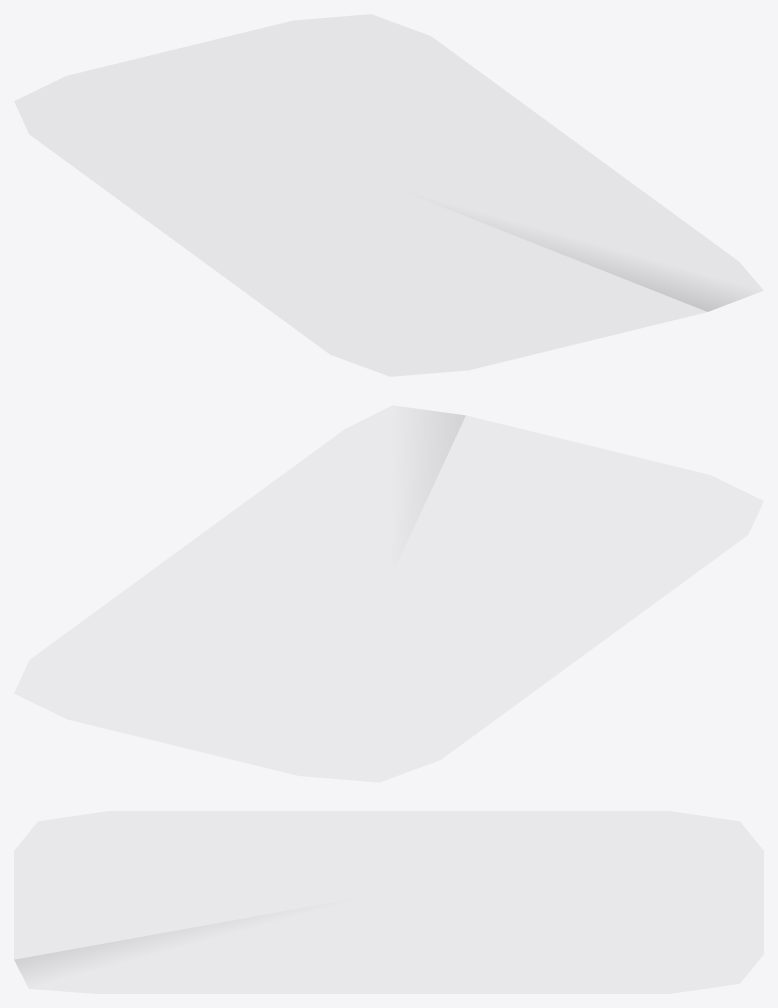
3 views of the same model, one above another, from view 1: azimuth 30°, elevation 25°; view 2: azimuth 150°, elevation 25°; view 3: azimuth 270°, elevation 25° (orthographic). The views are drawn at different scales.
Parts seen in each view (by area): view 1: Joint_0_Object_0; view 2: Joint_0_Object_0; view 3: Joint_0_Object_0.
Boxes of the visible parts, box(x1,y1,x2,y2) form: Joint_0_Object_0: box(488, 224, 746, 311); Joint_0_Object_0: box(411, 409, 465, 531); Joint_0_Object_0: box(14, 914, 268, 979).
Size of the model in its own units: 206 by 5.61 by 357.
Materials: 1 (1 with a texture image).
